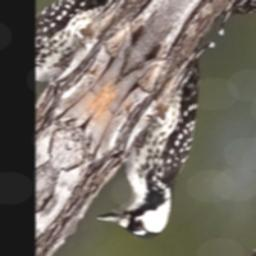Woodpecker: (77, 50, 253, 256)
